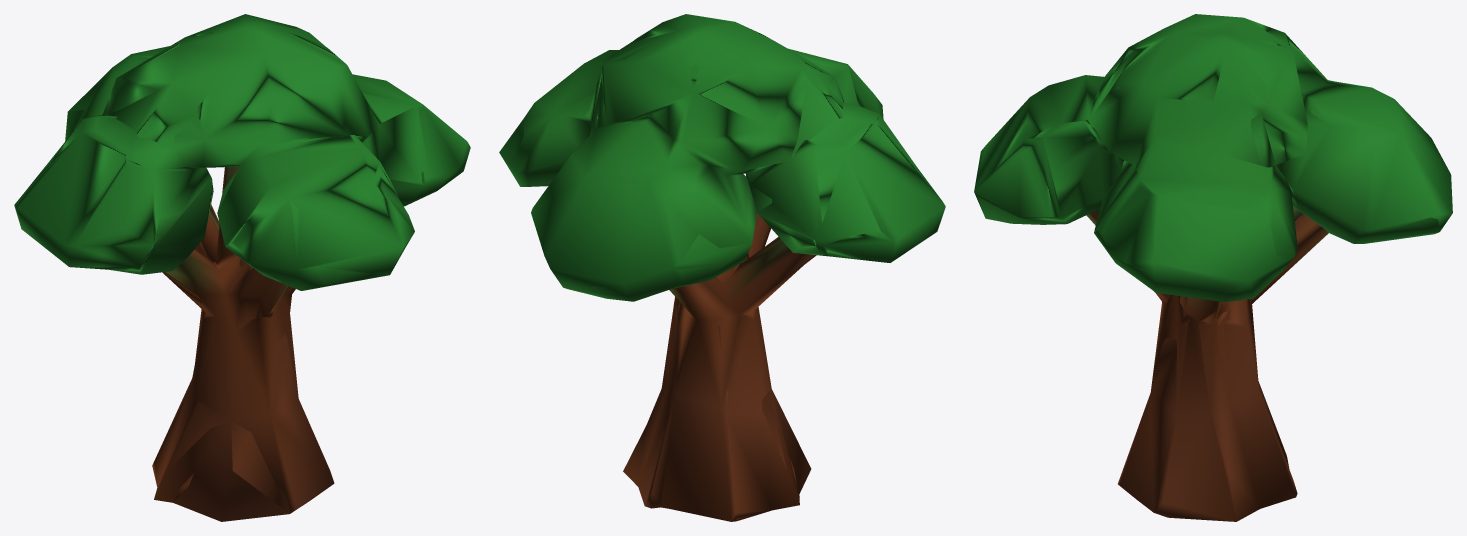
File: gen3d-strangler-fig-tree-lod1.glb
The picture shows the model from 3 angles, left to right: view 1: azimuth 30°, elevation 25°; view 2: azimuth 150°, elevation 25°; view 3: azimuth 270°, elevation 25°; orthographic projection.
Visible parts, largest first — view 1: part_0; view 2: part_0; view 3: part_0.
Part boxes in pixels (<box>): part_0: <box>14,14,470,521</box>; part_0: <box>499,14,945,521</box>; part_0: <box>974,14,1452,521</box>.
Bounding box in the file's own units: 0.9423 × 0.9951 × 0.9483.
